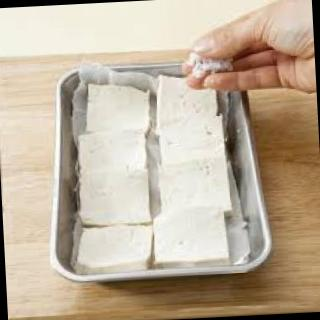Tahu: (74, 62, 253, 276)
